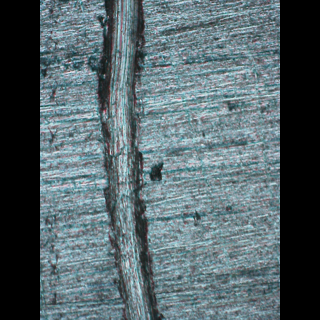d: (95, 0, 166, 319)
